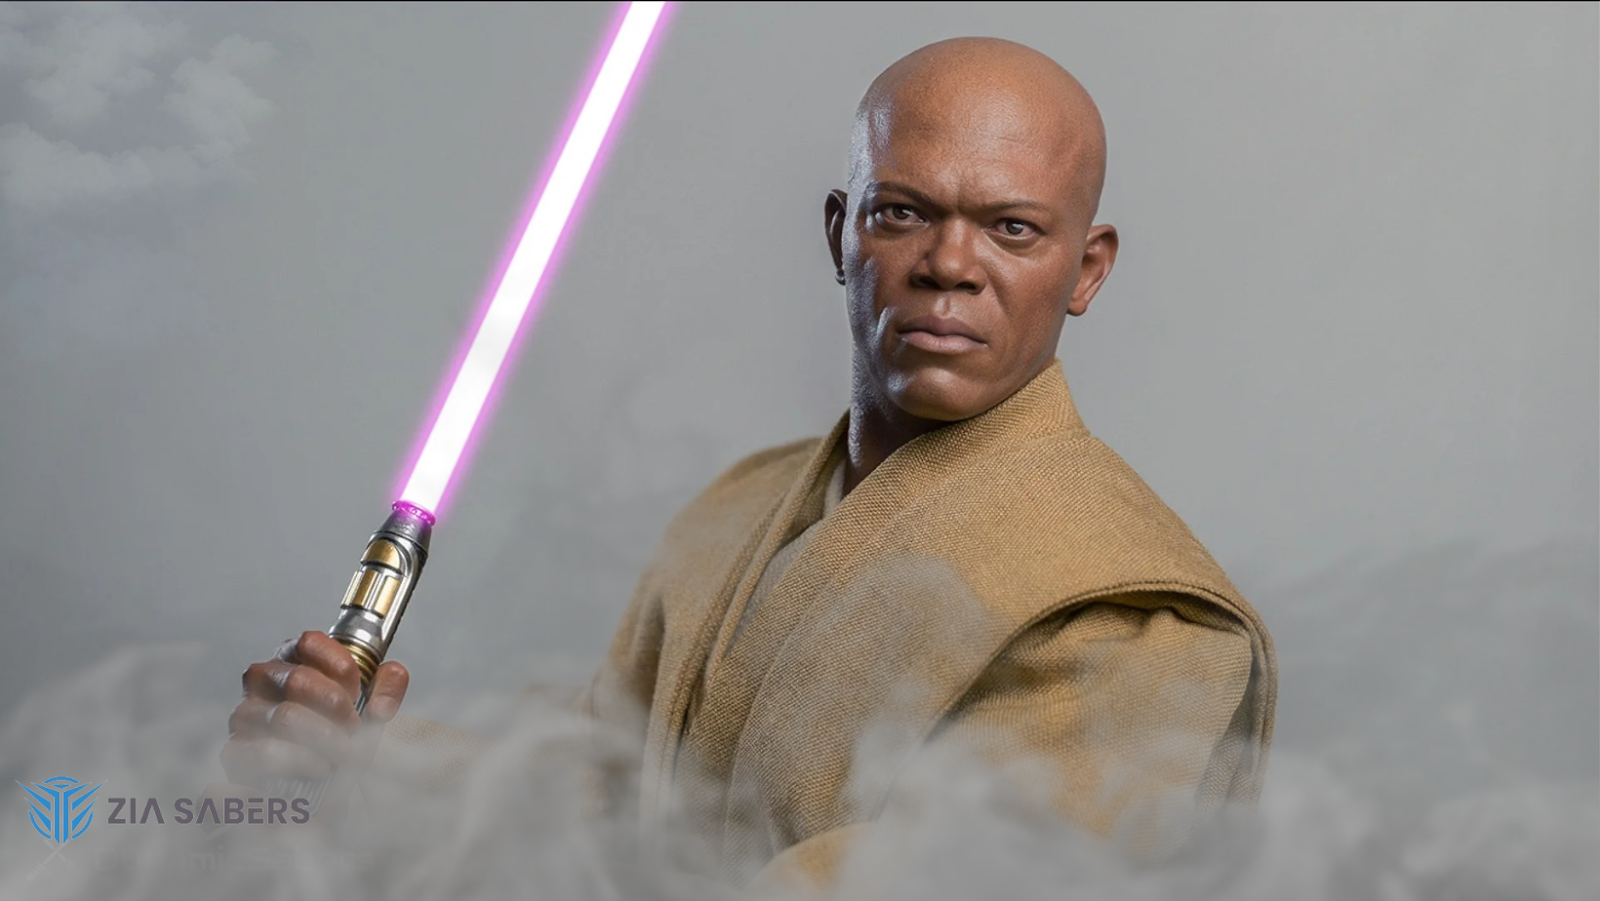lightsaber: (321, 0, 727, 790)
